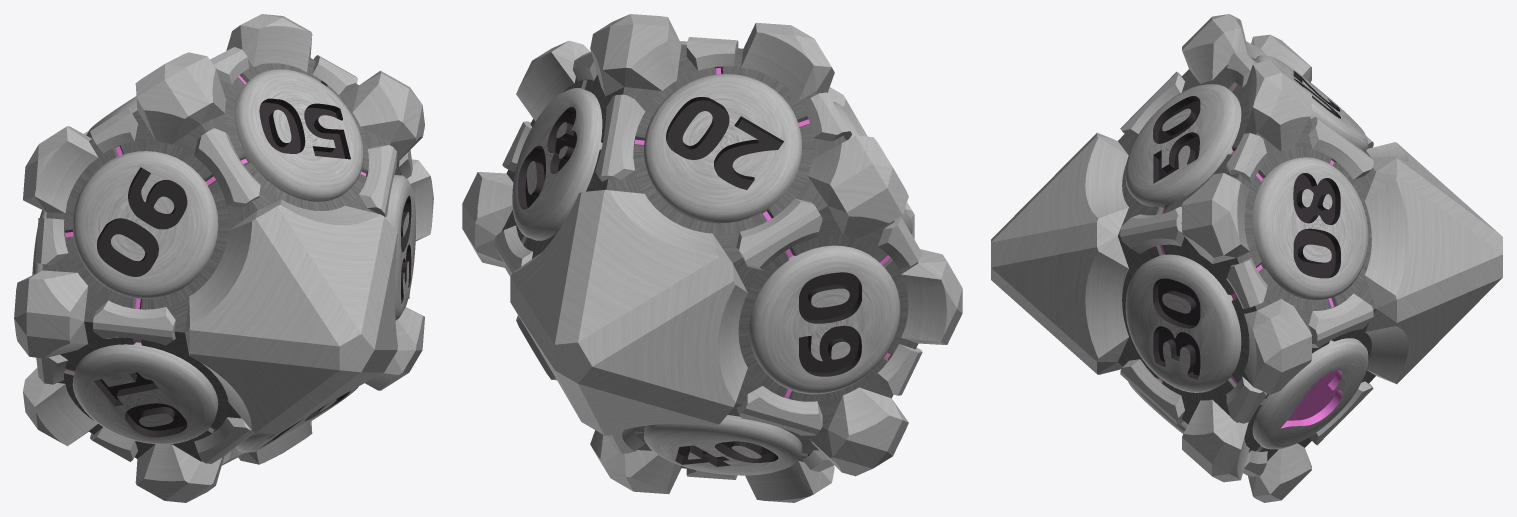
Rendered from wcube_d100.glb.
3 views of the same model, side by side, from view 1: azimuth 30°, elevation 25°; view 2: azimuth 150°, elevation 25°; view 3: azimuth 270°, elevation 25° (orthographic). The views are drawn at different scales.
Visible parts, largest first — view 1: d100_heart.001; view 2: d100_heart.001; view 3: d100_heart.001.
Part boxes in pixels (x1,y1,x2,y2): d100_heart.001: (14, 14, 433, 502); d100_heart.001: (462, 14, 962, 502); d100_heart.001: (991, 14, 1502, 502).
Bounding box in the file's own units: 184 × 175 × 191.
Materials: 1 (1 with a texture image).
